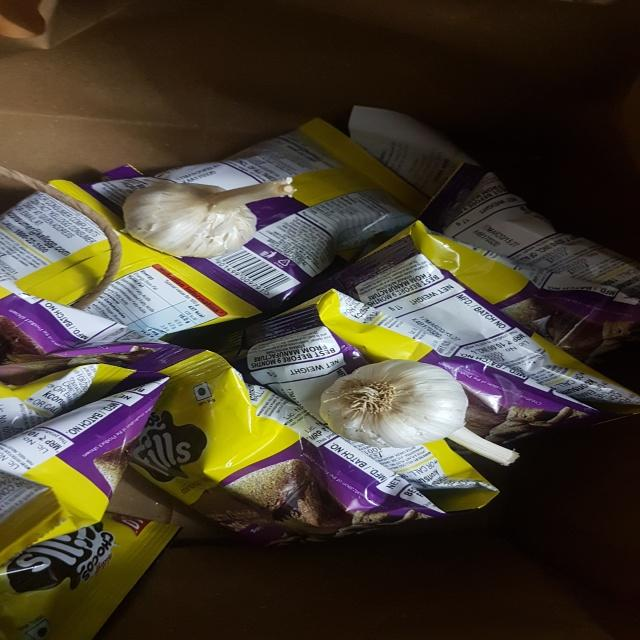garlic: (315, 351, 521, 466), (113, 158, 303, 257)
